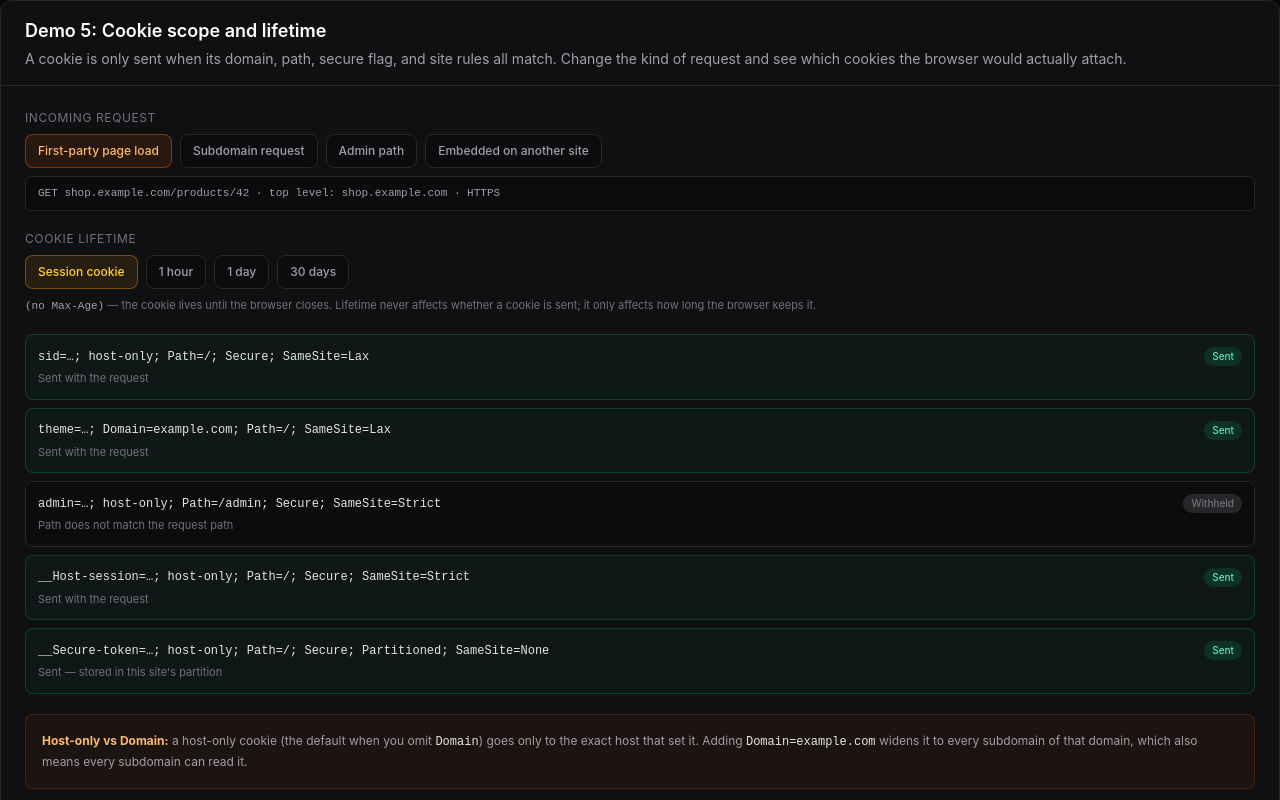
it: CookieScopeDemo › reports the lifetime when a Max-Age option is picked
Click the button "1 hour": (176, 272) [146,254,206,288]
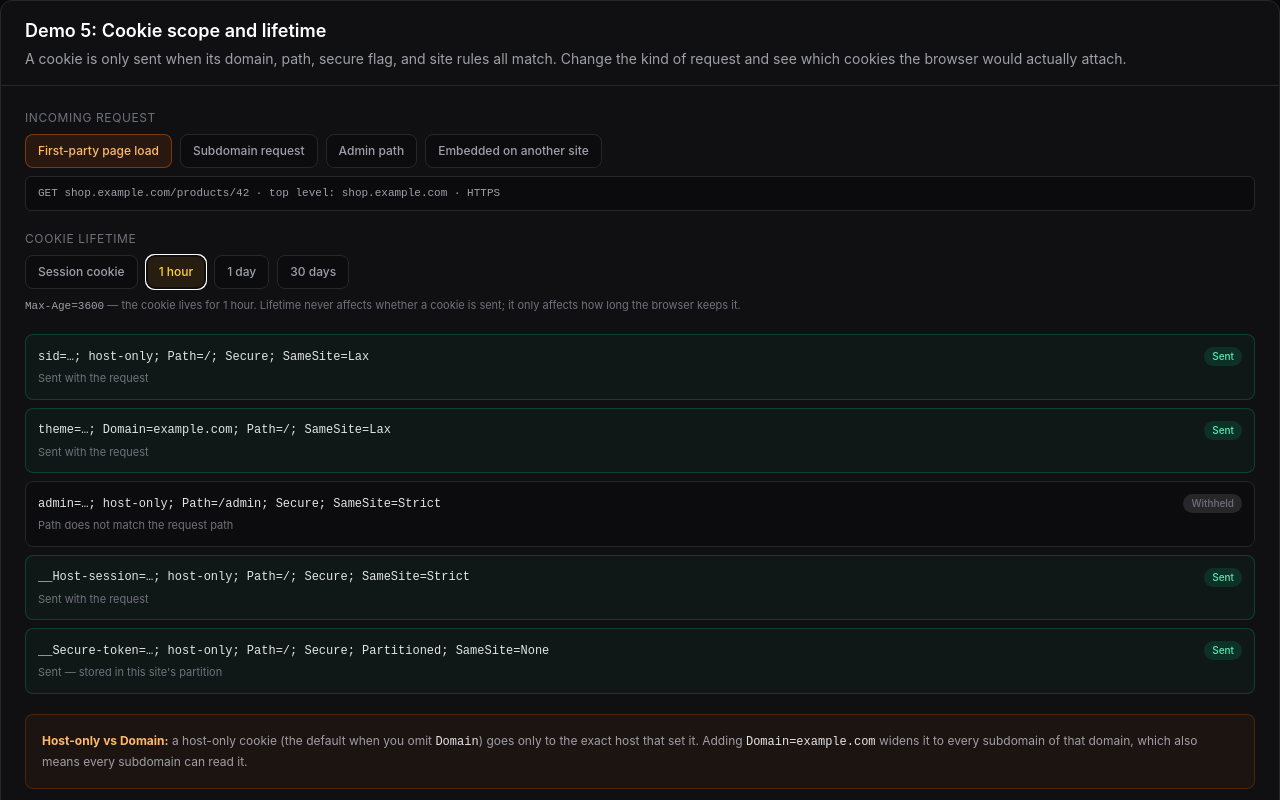
Expected: the text "for 1 hour" is shown, [205,298,254,312]
